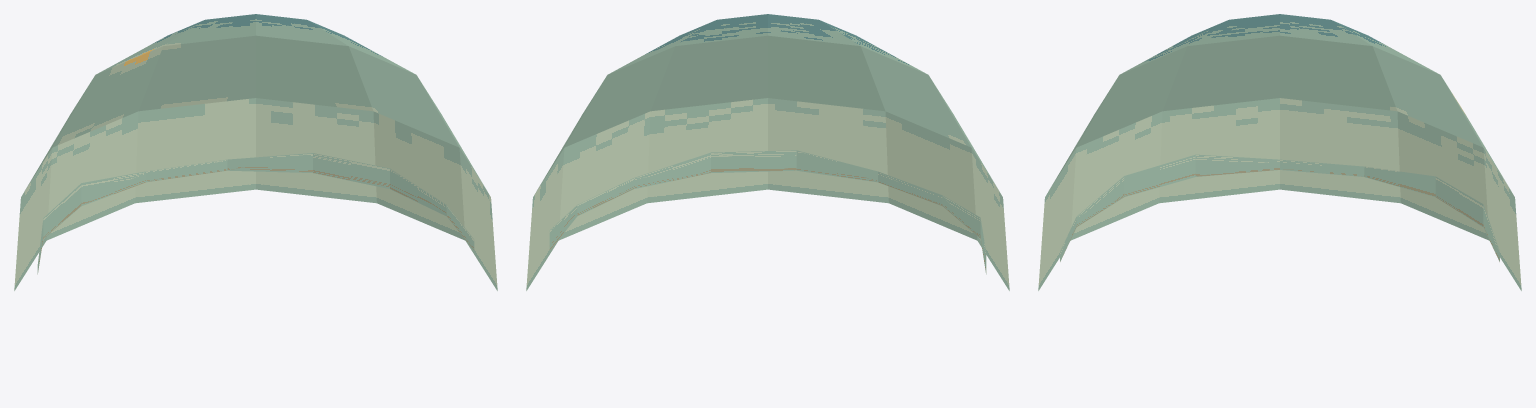
The model's file is land.sky__mesas.glb.
3 renders of one model, left to right at view 1: azimuth 30°, elevation 25°; view 2: azimuth 150°, elevation 25°; view 3: azimuth 270°, elevation 25°, orthographic.
Visible parts, largest first — view 1: kit_shell_sky, kit_shell_horizon; view 2: kit_shell_sky, kit_shell_horizon; view 3: kit_shell_sky, kit_shell_horizon.
Boxes of the visible parts, bbox=[...] form: kit_shell_sky: bbox=[14, 14, 497, 290]; kit_shell_horizon: bbox=[37, 153, 474, 274]; kit_shell_sky: bbox=[526, 14, 1009, 290]; kit_shell_horizon: bbox=[549, 150, 986, 274]; kit_shell_sky: bbox=[1038, 14, 1521, 290]; kit_shell_horizon: bbox=[1060, 154, 1499, 261].
Bounding box in the file's own units: 791 × 460 × 791.
2 materials, 2 textured.
